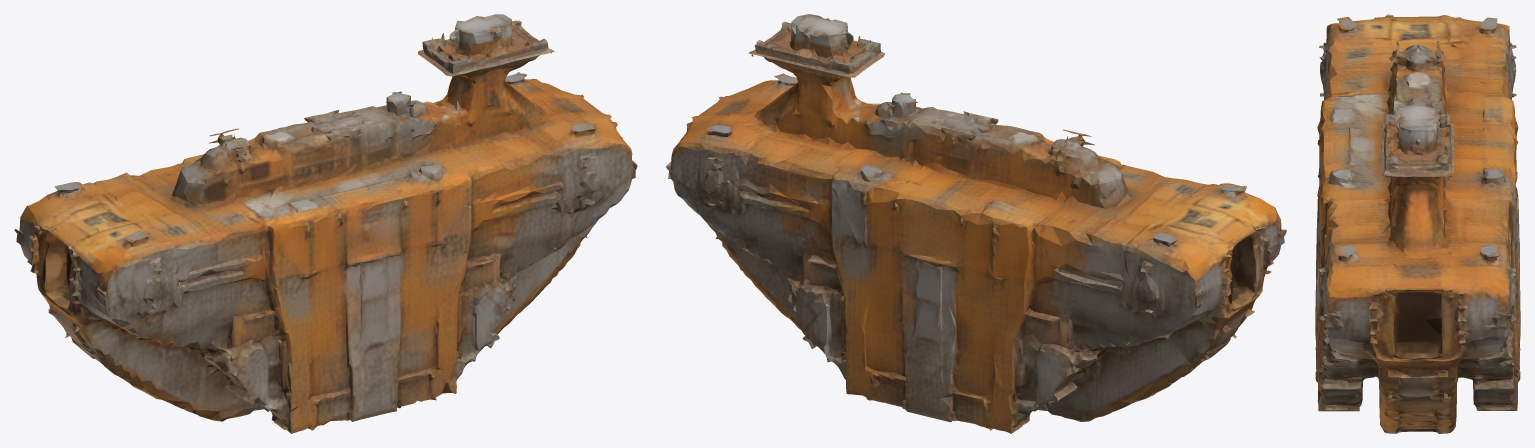
Rendered from salvager_frigate.glb.
3 renders of one model, left to right at view 1: azimuth 30°, elevation 25°; view 2: azimuth 150°, elevation 25°; view 3: azimuth 270°, elevation 25°, orthographic. The views are drawn at different scales.
Parts seen in each view (by area): view 1: salvager_frigate; view 2: salvager_frigate; view 3: salvager_frigate.
Part boxes in pixels (x1,y1,x2,y2): salvager_frigate: (14, 14, 637, 433); salvager_frigate: (666, 14, 1286, 433); salvager_frigate: (1315, 14, 1520, 433).
Size of the model in its own units: 1.89 by 1.05 by 0.5832.
Materials: 1 (1 with a texture image).
